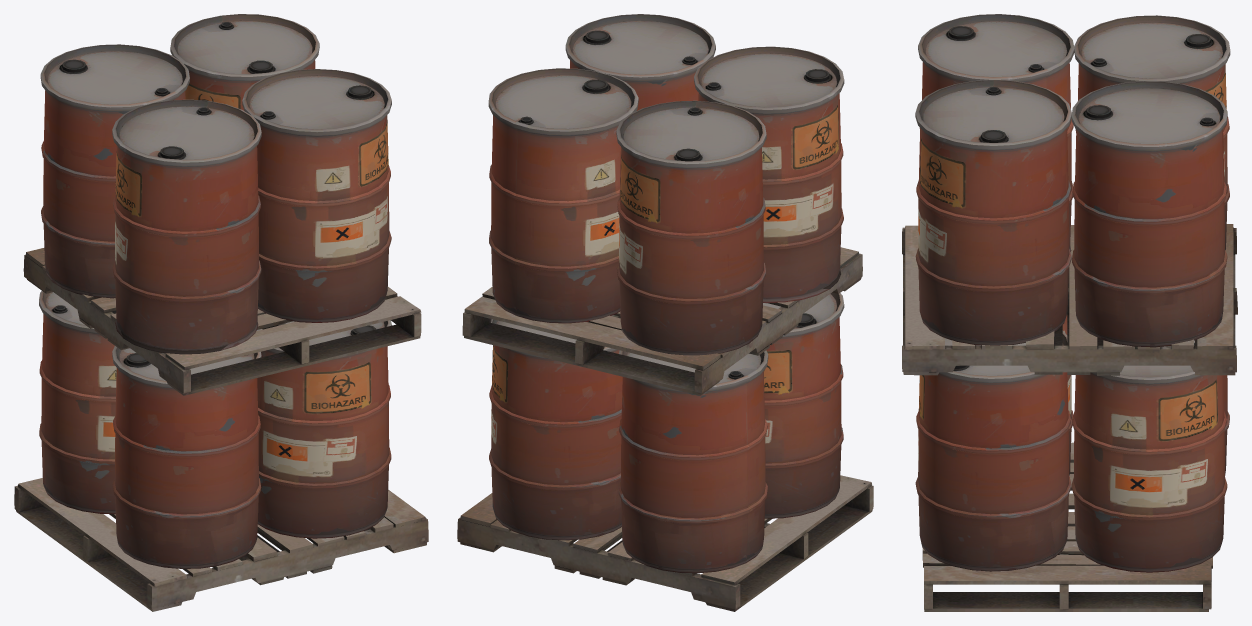
File: water_barrel_cluster3.glb
3 views of the same model, side by side, from view 1: azimuth 30°, elevation 25°; view 2: azimuth 150°, elevation 25°; view 3: azimuth 270°, elevation 25° (orthographic). The views are drawn at different scales.
Visible parts, largest first — view 1: water_barrel_cluster3; view 2: water_barrel_cluster3; view 3: water_barrel_cluster3.
Part boxes in pixels (left/top/right/bottom): water_barrel_cluster3: left=14, top=14, right=428, bottom=611; water_barrel_cluster3: left=457, top=14, right=873, bottom=611; water_barrel_cluster3: left=902, top=14, right=1237, bottom=611.
Bounding box in the file's own units: 1.43 × 2.16 × 1.43.
Materials: 2 (2 with a texture image).
